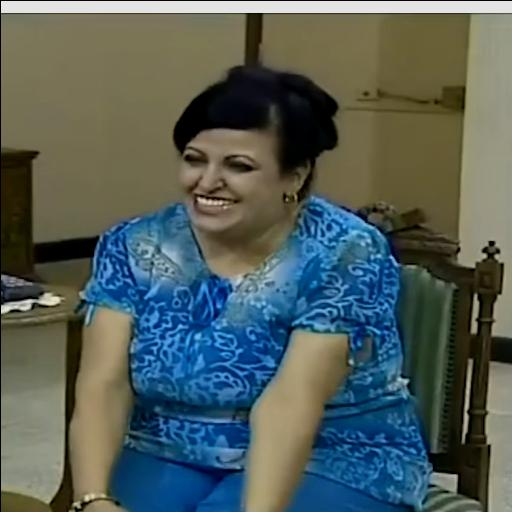jannet: (174, 65, 338, 234)
